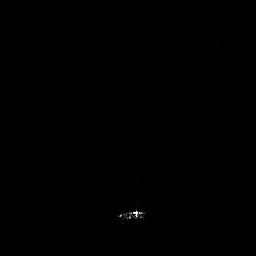ship: (113, 207, 151, 223)
